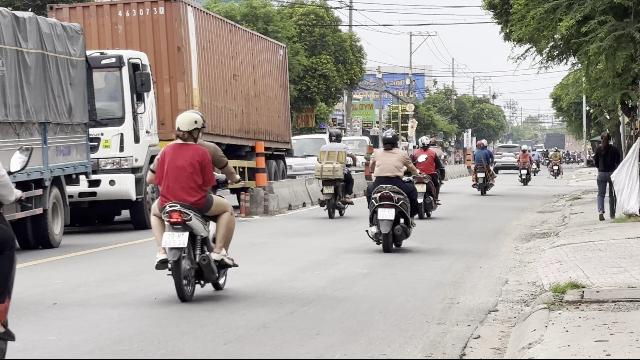helmet: (173, 109, 205, 142), (380, 128, 398, 148)
licenseplate: (162, 231, 190, 246), (378, 208, 394, 220)
motorcyclist: (144, 108, 240, 300), (362, 128, 418, 252)
